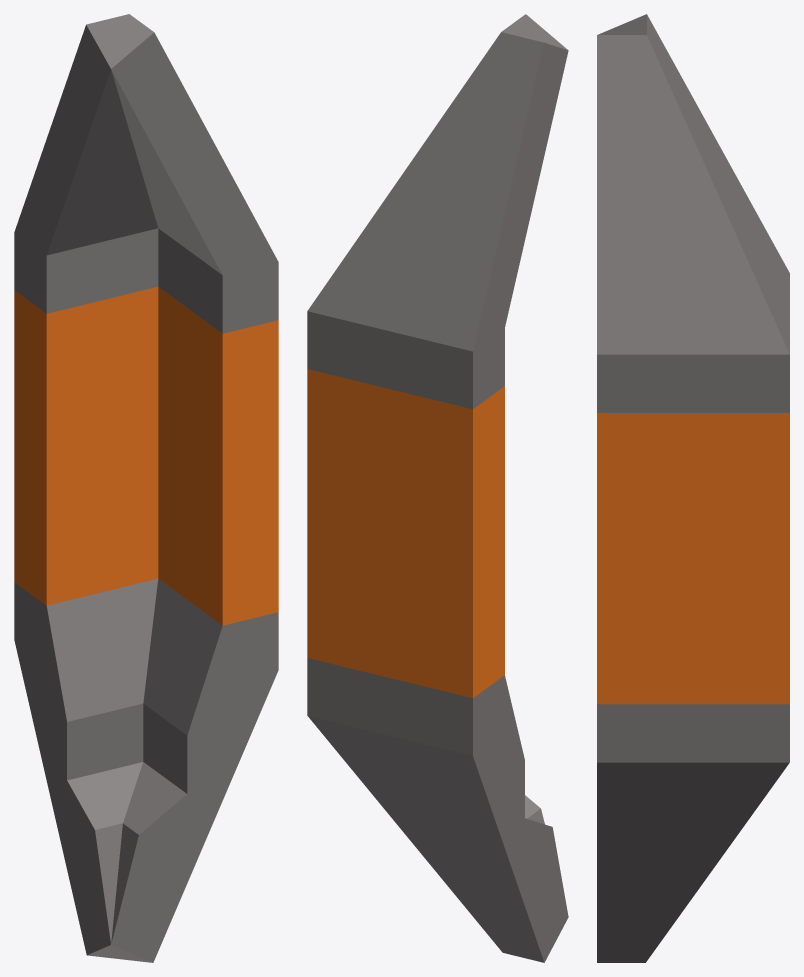
The model's file is scifi_scifi-wall-corridor-corner-stripe.fbx.
3 renders of one model, left to right at view 1: azimuth 30°, elevation 25°; view 2: azimuth 150°, elevation 25°; view 3: azimuth 270°, elevation 25°, orthographic.
Visible parts, largest first — view 1: scifi_scifi_wall_corridor_corner_stripe; view 2: scifi_scifi_wall_corridor_corner_stripe; view 3: scifi_scifi_wall_corridor_corner_stripe.
Part boxes in pixels (x1=…): scifi_scifi_wall_corridor_corner_stripe: x1=14, y1=14, x2=278, y2=962; scifi_scifi_wall_corridor_corner_stripe: x1=307, y1=14, x2=568, y2=962; scifi_scifi_wall_corridor_corner_stripe: x1=597, y1=14, x2=789, y2=962.
Bounding box in the file's own units: 37.65 × 200 × 37.65.
